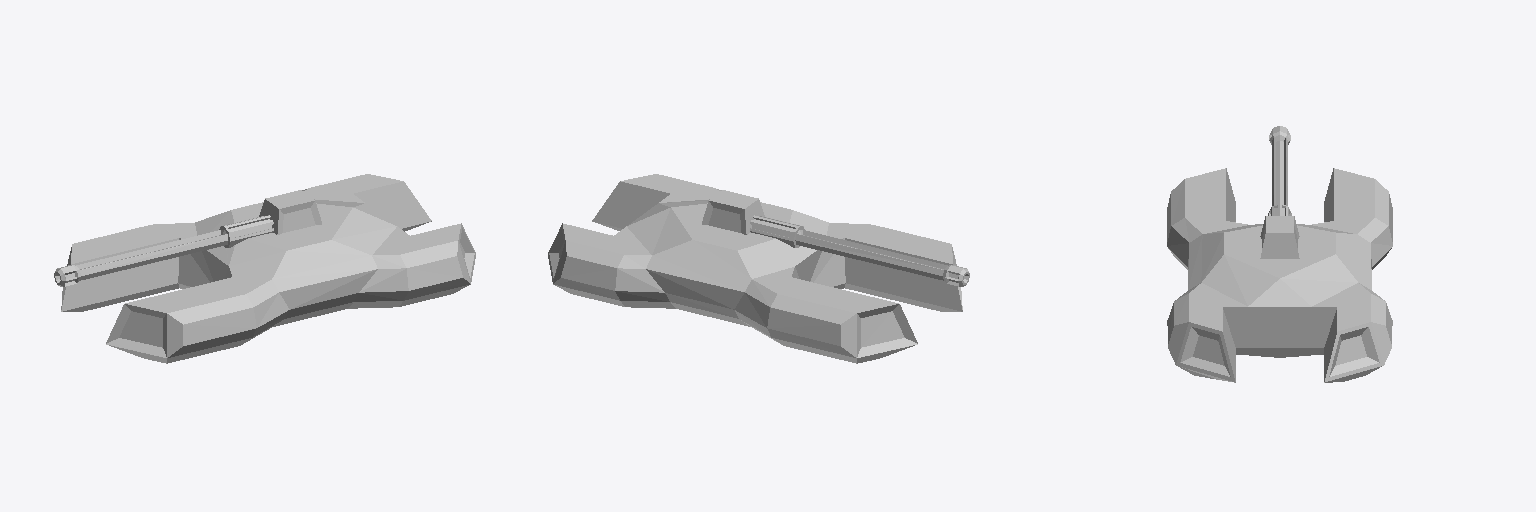
Rendered from Scrab.obj.
3 renders of one model, left to right at view 1: azimuth 30°, elevation 25°; view 2: azimuth 150°, elevation 25°; view 3: azimuth 270°, elevation 25°, orthographic.
Visible parts, largest first — view 1: defaultobject; view 2: defaultobject; view 3: defaultobject.
Boxes of the visible parts, x1,y1,x2,y2 form: defaultobject: [54, 174, 475, 363]; defaultobject: [548, 174, 969, 363]; defaultobject: [1167, 126, 1392, 382].
Bounding box in the file's own units: 6.4 × 1.49 × 3.17.